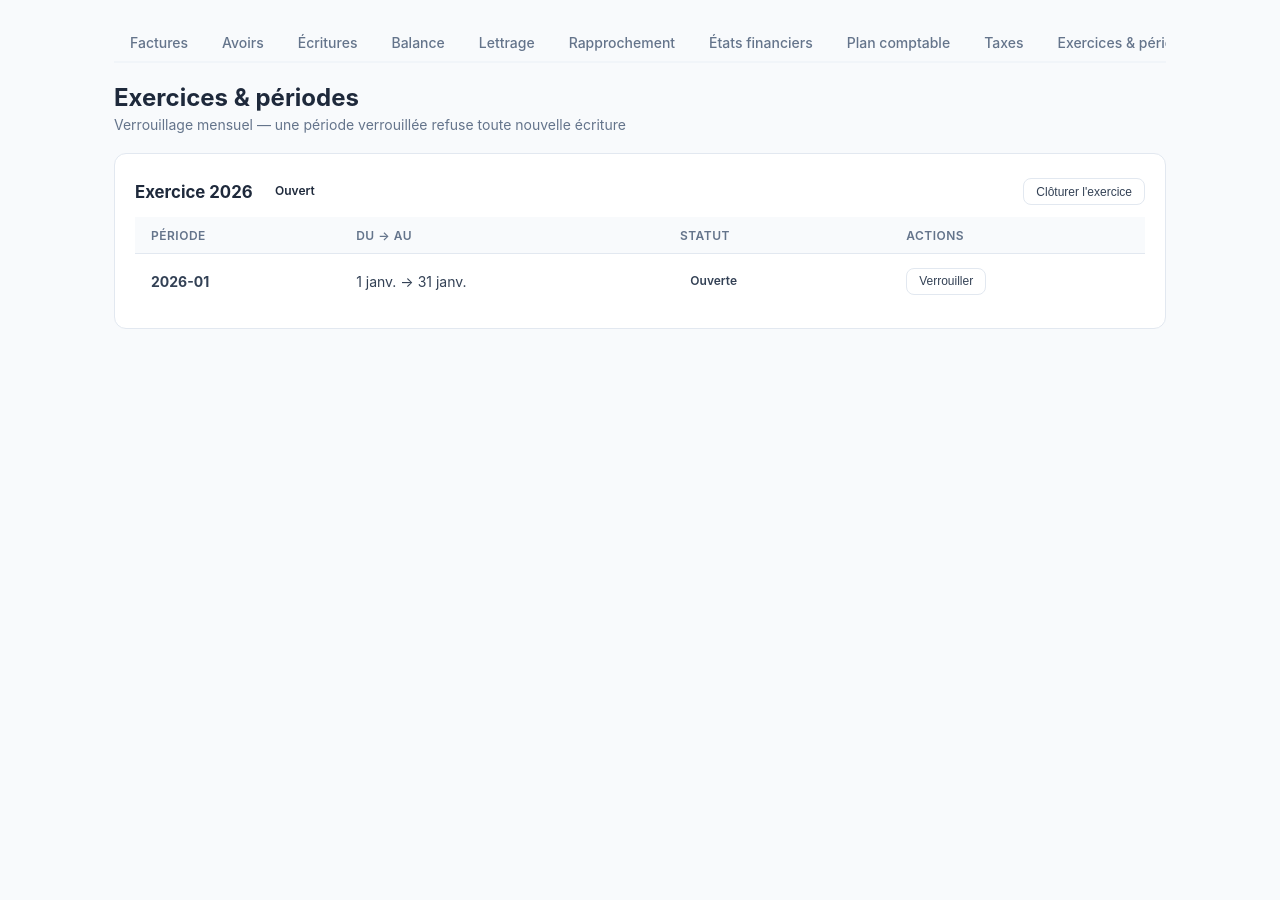
Test: PeriodsView — clôture › surfaces a server error when the next year is closed
Click the button with test id "close-fy-2026".
click(1084, 192)  # box [1023,178,1145,205]
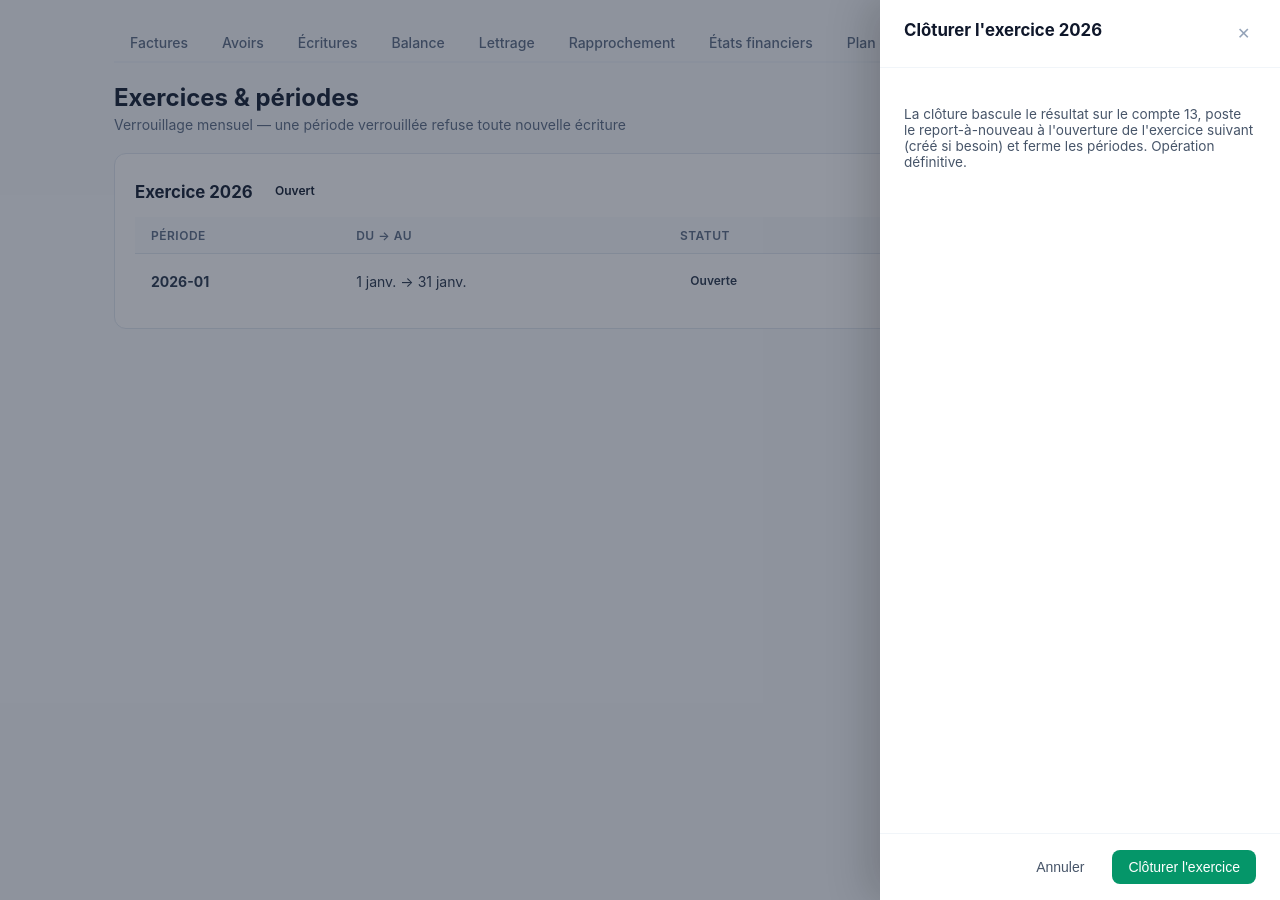
Click the button with test id "close-submit".
click(1184, 867)  # box [1112,850,1256,884]
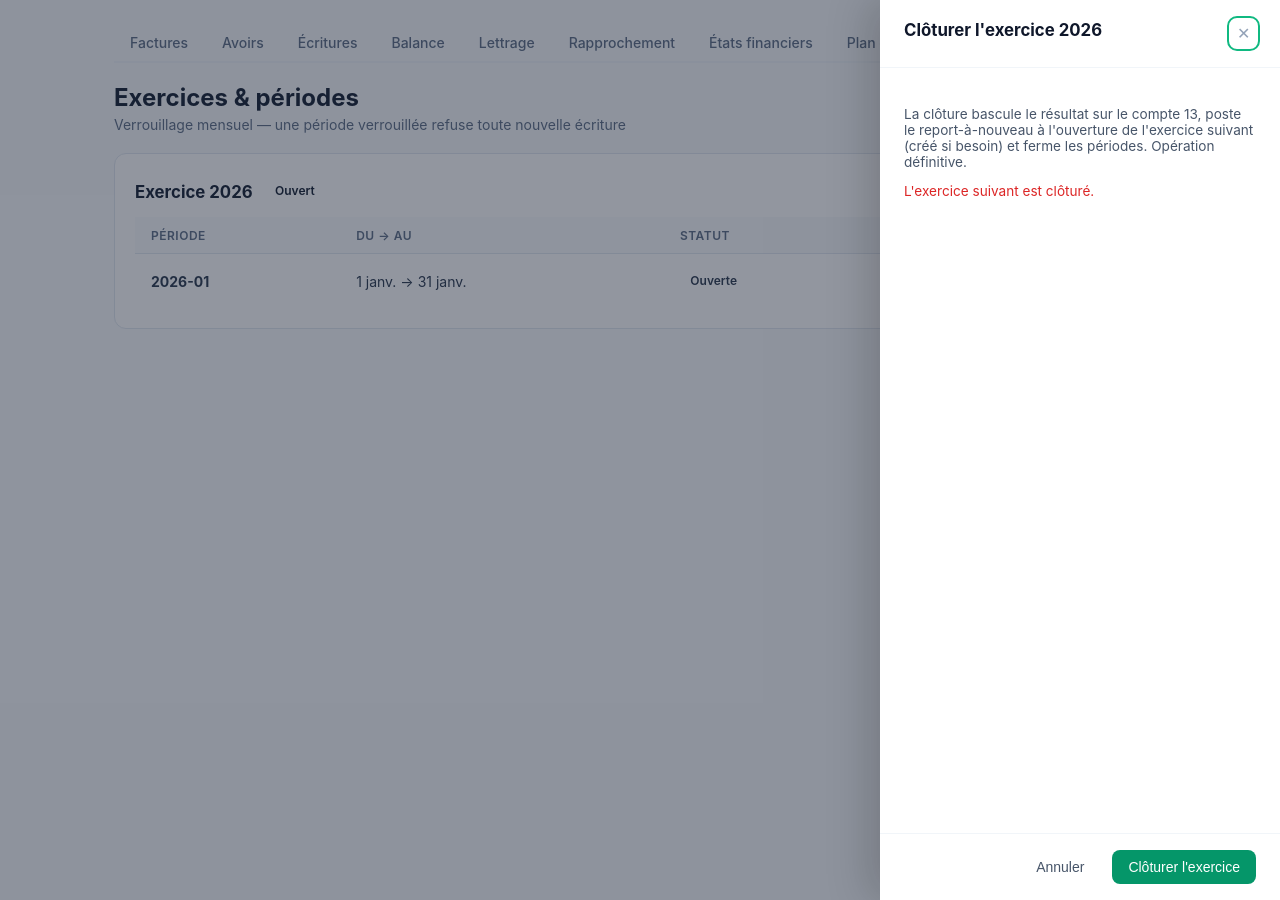
Check: the text with test id "close-error" shows "clôturé", box [904,183,1094,199]
